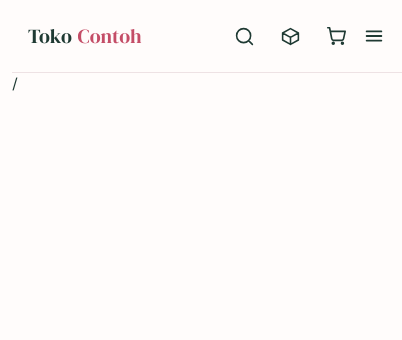
Scenario: Header › opens the menu panel, reports it, and locks the page behind it
The width and height of the screenshot is (402, 340).
Click the button named "menu" at (374, 36), box 352,14 -> 396,58
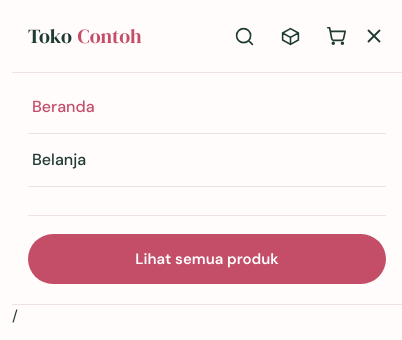
Now the button named "menu" is expanded, box 352,14 -> 396,58
Now the navigation bar with id "bl-menu" is shown
